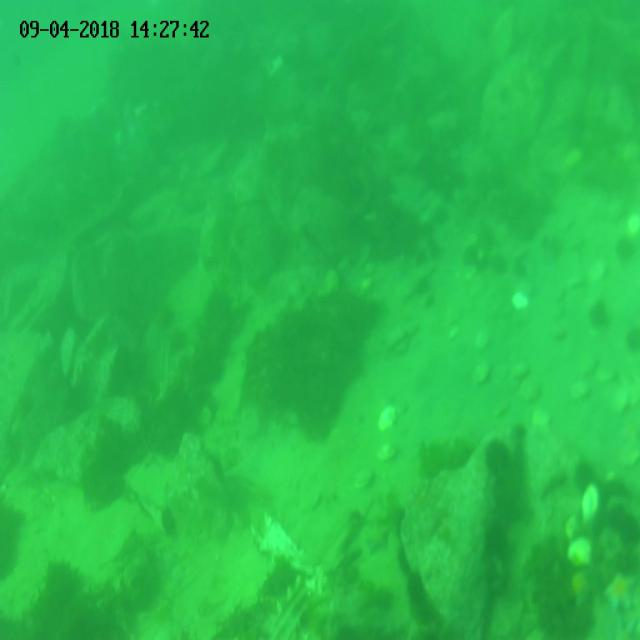scallop: (376, 405, 397, 432), (352, 468, 373, 491), (376, 442, 399, 463), (473, 361, 491, 383), (580, 355, 598, 375), (572, 380, 588, 400), (597, 366, 618, 381)
starfish: (605, 572, 640, 610), (612, 616, 640, 638)
